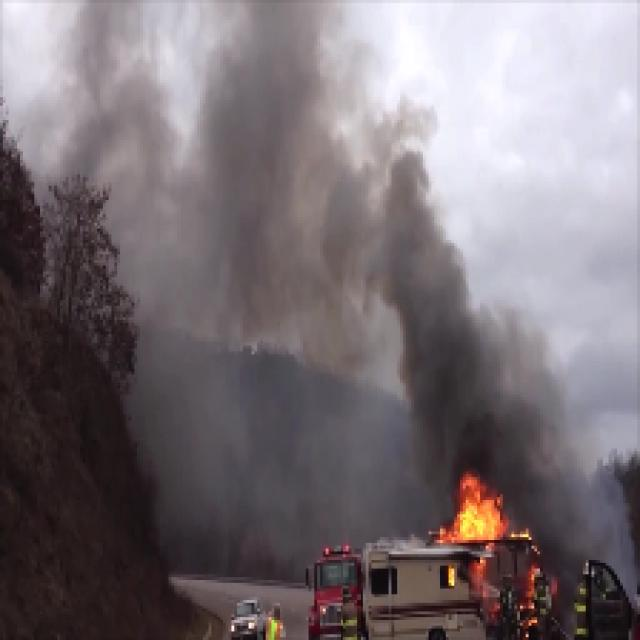fire: (423, 469, 515, 545)
smoke: (51, 3, 429, 194), (132, 202, 464, 407), (470, 308, 579, 463), (526, 468, 630, 553)
